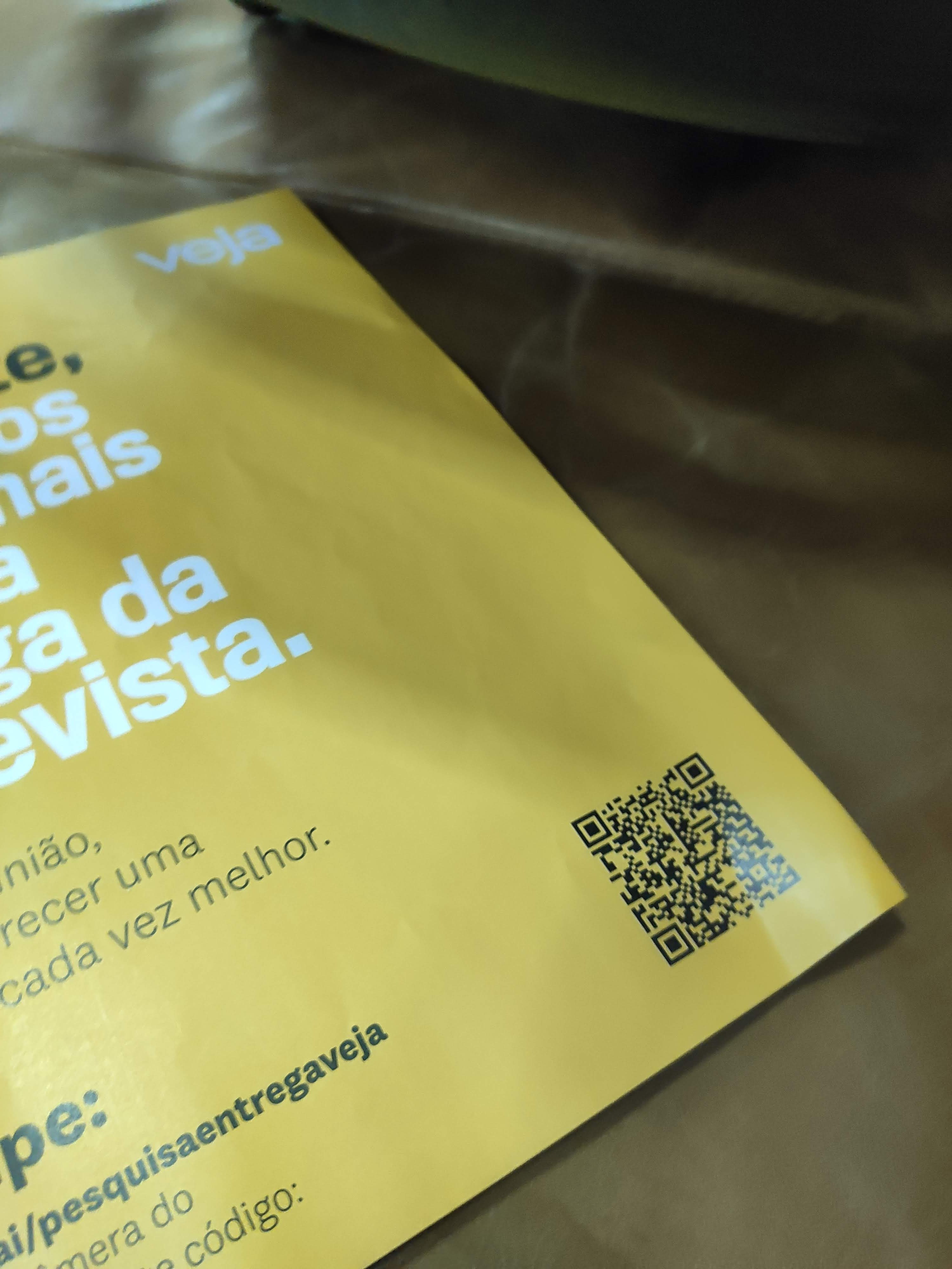QR-CODE: (569, 751, 800, 966)
